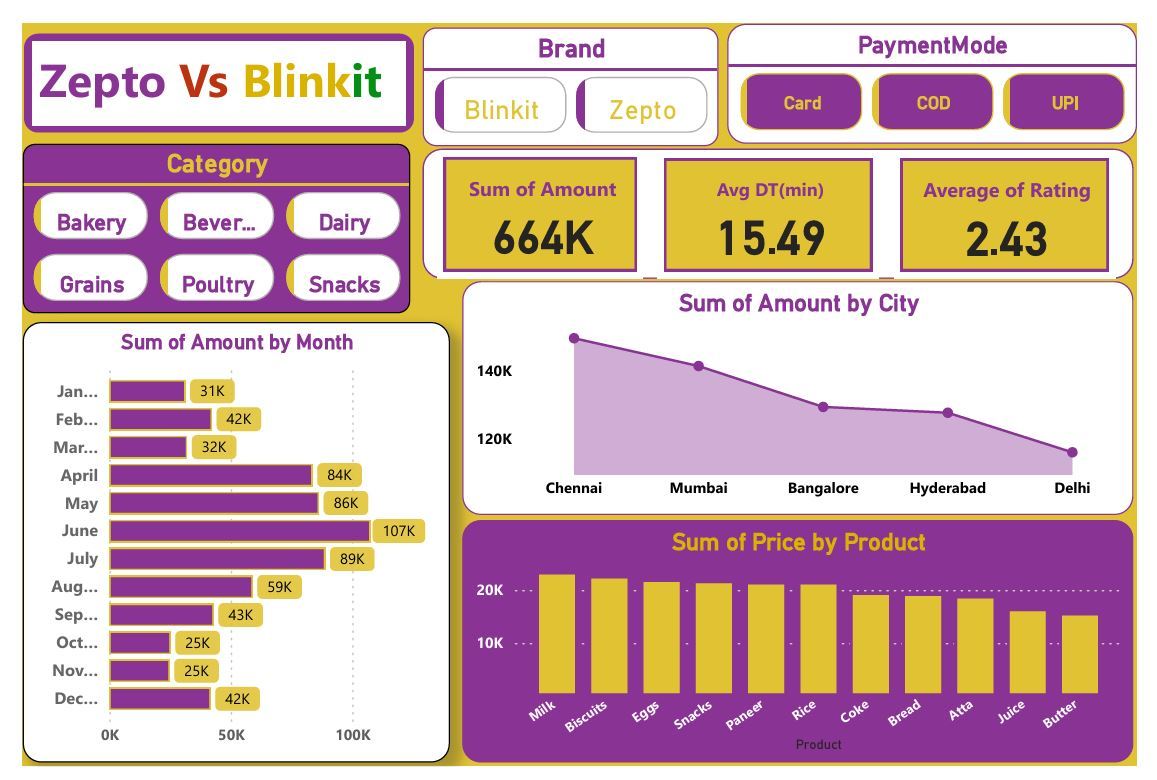

The dashboard page shown, as its layout file describes it:
{"tool":"powerbi","page":{"name":"Page 1","canvas":[900,600],"ordinal":0},"visuals":[{"type":"clusteredBarChart","fields":{"Category":["Table2.Date.Variation.Date Hierarchy.Month"],"Y":["Sum(Table2.Amount)"]},"box":[0,240.8,345.1,356.3],"z":0},{"type":"shape","box":[0,7,316.9,81.7],"z":1000},{"type":"textbox","box":[8.5,14.1,301.4,67.6],"z":2000},{"type":"advancedSlicerVisual","fields":{"Values":["Table2.Category"]},"box":[0,97.2,312.7,136.6],"z":3000},{"type":"advancedSlicerVisual","fields":{"Values":["Table2.Brand"]},"box":[322.5,2.8,239.4,95.8],"z":4000},{"type":"shape","box":[322.5,101.4,574.6,104.2],"z":5000},{"type":"cardVisual","fields":{"Data":["Sum(Table2.Amount)"]},"box":[335.2,102.8,166.2,102.8],"z":6000},{"type":"cardVisual","fields":{"Data":["Avg(Table2.DeliveryTime(min))"]},"box":[512.7,104.2,178.9,101.4],"z":7000},{"type":"cardVisual","fields":{"Data":["Avg(Table2.Rating)"]},"box":[704.2,104.2,178.9,101.4],"z":8000},{"type":"areaChart","fields":{"Y":["Sum(Table2.Amount)"],"Category":["Table2.City"]},"box":[354.9,208.5,542.3,188.7],"z":9000},{"type":"advancedSlicerVisual","fields":{"Values":["Table2.PaymentMode"]},"box":[569,0,331,97.2],"z":10000},{"type":"columnChart","fields":{"Category":["Table2.Product"],"Y":["Sum(Table2.Price)"]},"box":[354.9,401.4,542.3,195.8],"z":11000}]}

Visuals, with their boxes in screenshot pixels (x1, y1, x2, y2), scaled from the page's 900x600 canvas onto the 1157x780 screenshot:
clusteredBarChart - Table2.Date.Variation.Date Hierarchy.Month x Sum(Table2.Amount): 0, 313, 444, 776
shape: 0, 9, 407, 115
textbox: 11, 18, 398, 106
advancedSlicerVisual - Table2.Category: 0, 126, 402, 304
advancedSlicerVisual - Table2.Brand: 415, 4, 722, 128
shape: 415, 132, 1153, 267
cardVisual - Sum(Table2.Amount): 431, 134, 645, 267
cardVisual - Avg(Table2.DeliveryTime(min)): 659, 135, 889, 267
cardVisual - Avg(Table2.Rating): 905, 135, 1135, 267
areaChart - Sum(Table2.Amount) x Table2.City: 456, 271, 1153, 516
advancedSlicerVisual - Table2.PaymentMode: 731, 0, 1156, 126
columnChart - Table2.Product x Sum(Table2.Price): 456, 522, 1153, 776
